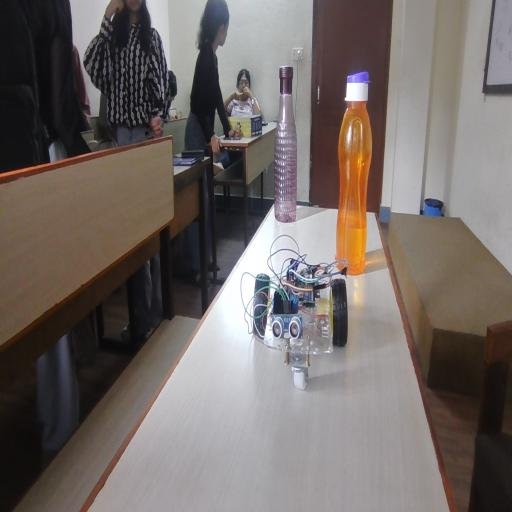Bottle: (276, 74, 321, 233), (344, 74, 381, 245)
car: (255, 255, 354, 385)
